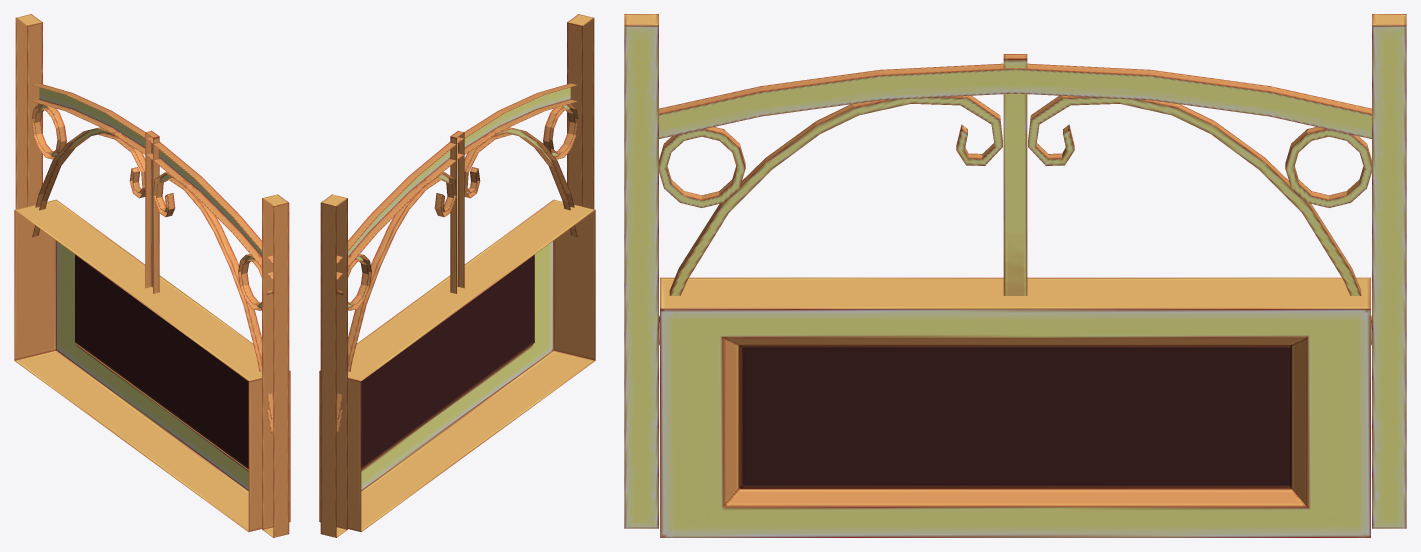
File: PointCounter_Mesh_01.fbx
3 views of the same model, side by side, from view 1: azimuth 30°, elevation 25°; view 2: azimuth 150°, elevation 25°; view 3: azimuth 270°, elevation 25° (orthographic). The views are drawn at different scales.
Visible parts, largest first — view 1: PointCounter_Mesh_01, PointCounter_Mount_Mesh_01; view 2: PointCounter_Mesh_01, PointCounter_Mount_Mesh_01; view 3: PointCounter_Mesh_01, PointCounter_Mount_Mesh_01.
Part boxes in pixels (x1=…): PointCounter_Mesh_01: x1=14, y1=199, x2=290, y2=532; PointCounter_Mount_Mesh_01: x1=15, y1=14, x2=289, y2=537; PointCounter_Mesh_01: x1=319, y1=199, x2=595, y2=532; PointCounter_Mount_Mesh_01: x1=320, y1=14, x2=594, y2=537; PointCounter_Mesh_01: x1=660, y1=277, x2=1370, y2=537; PointCounter_Mount_Mesh_01: x1=624, y1=14, x2=1406, y2=528.
Bounding box in the file's own units: 0.4155 × 3.12 × 4.39.
1 material, 1 textured.
